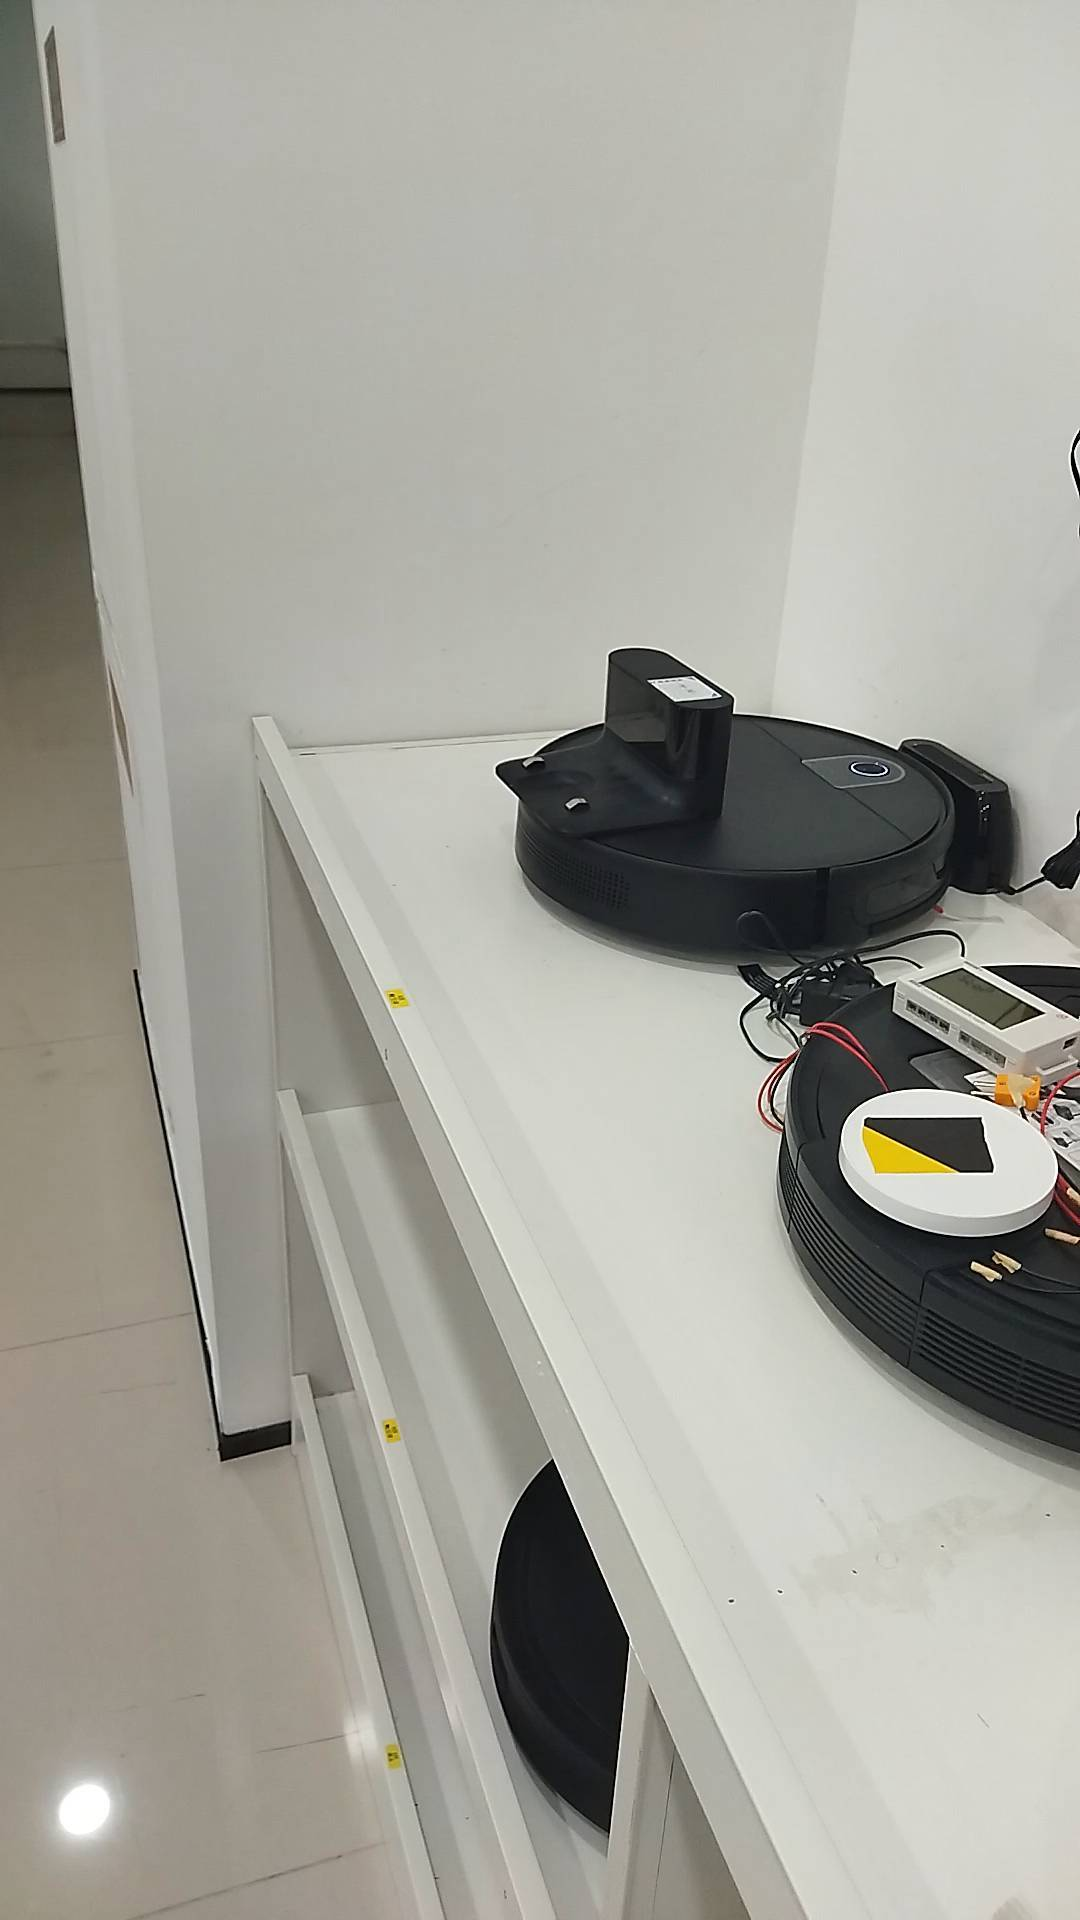recharge seat: (498, 647, 737, 843)
